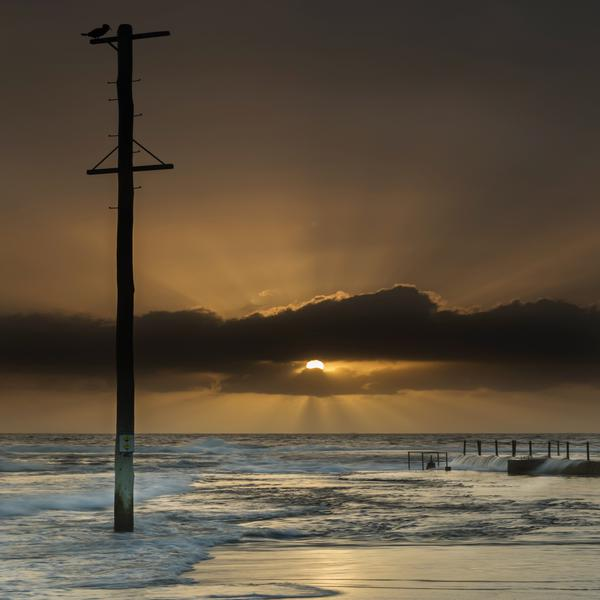utility_pole: (67, 10, 184, 240)
